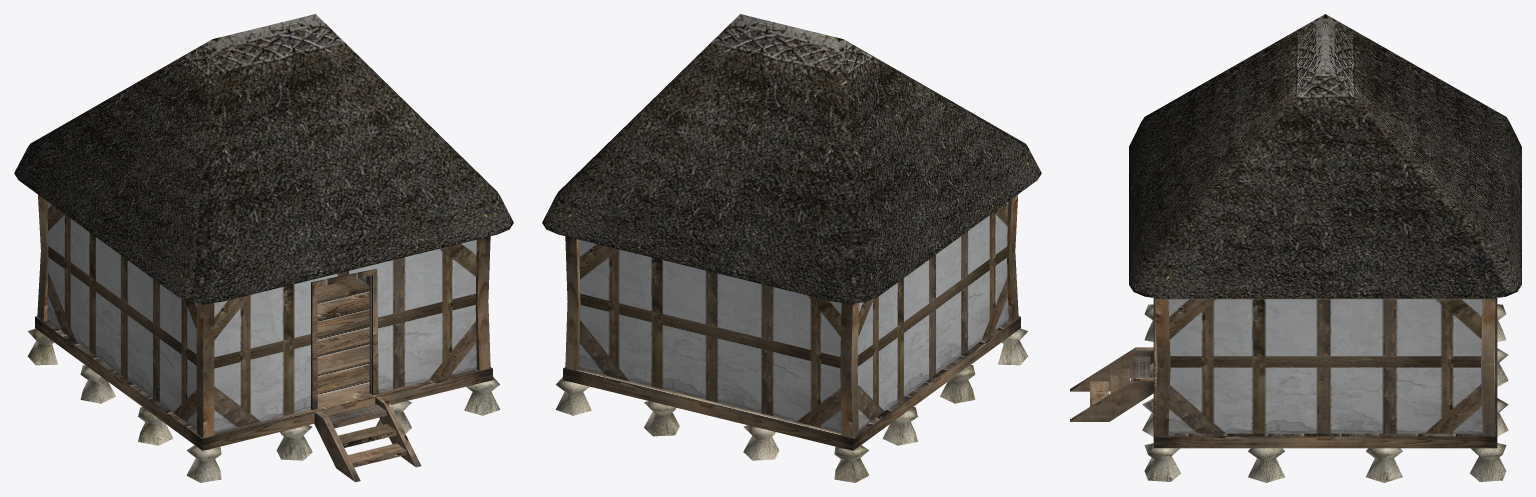
File: building_granary.glb
3 views of the same model, side by side, from view 1: azimuth 30°, elevation 25°; view 2: azimuth 150°, elevation 25°; view 3: azimuth 270°, elevation 25° (orthographic). The views are drawn at different scales.
Visible parts, largest first — view 1: building_granary; view 2: building_granary; view 3: building_granary.
Part boxes in pixels (<box>): building_granary: <box>14,14,513,482</box>; building_granary: <box>542,14,1041,482</box>; building_granary: <box>1070,14,1521,482</box>.
Size of the model in its own units: 6 by 6.16 by 6.9.
4 materials, 4 textured.
